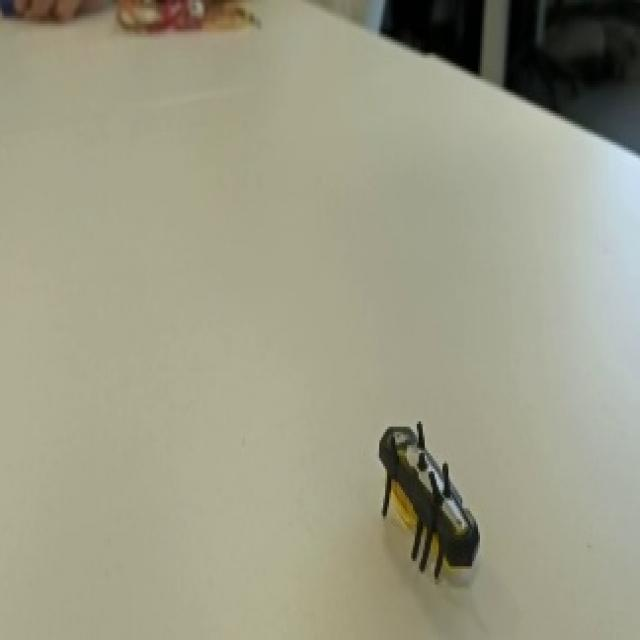6_NanoBug_GrisOscuro: (343, 387, 510, 599)
